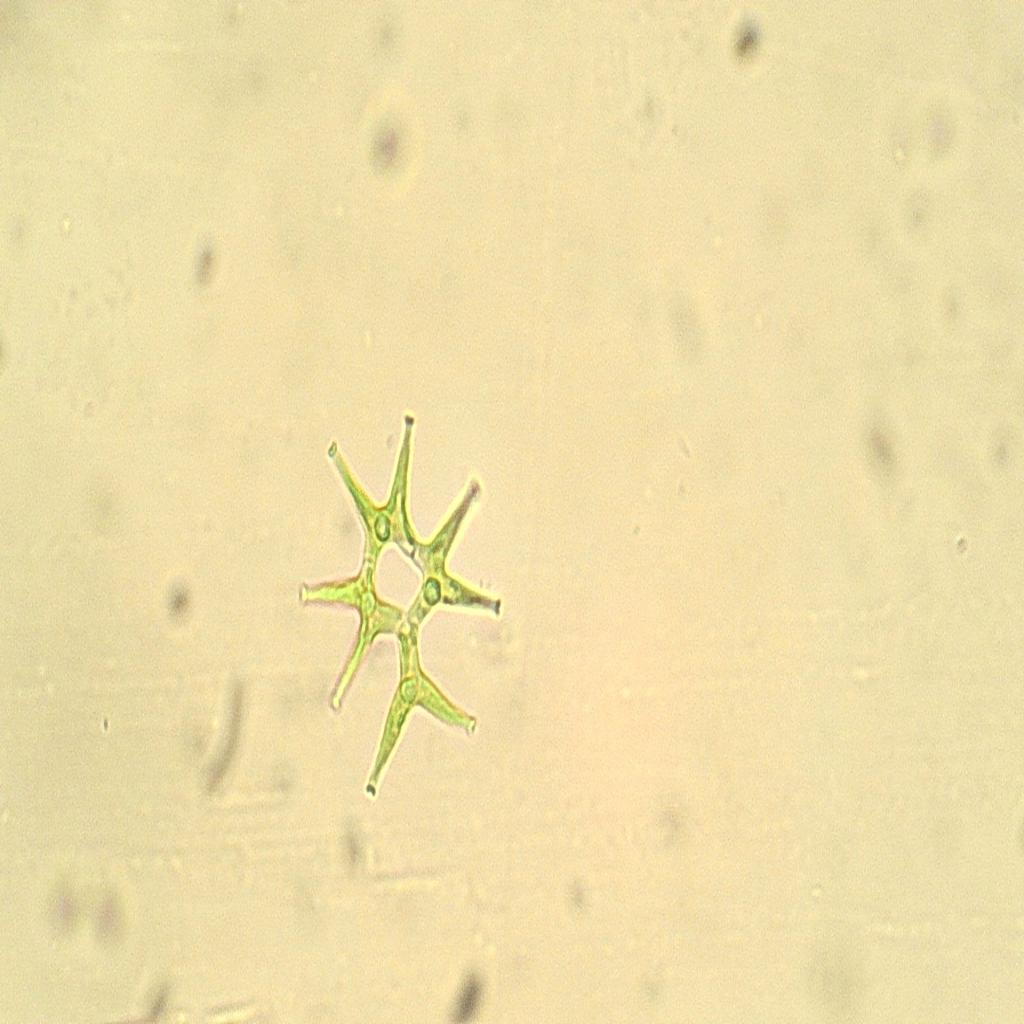Pediastrum_75FI: (285, 388, 534, 815)
